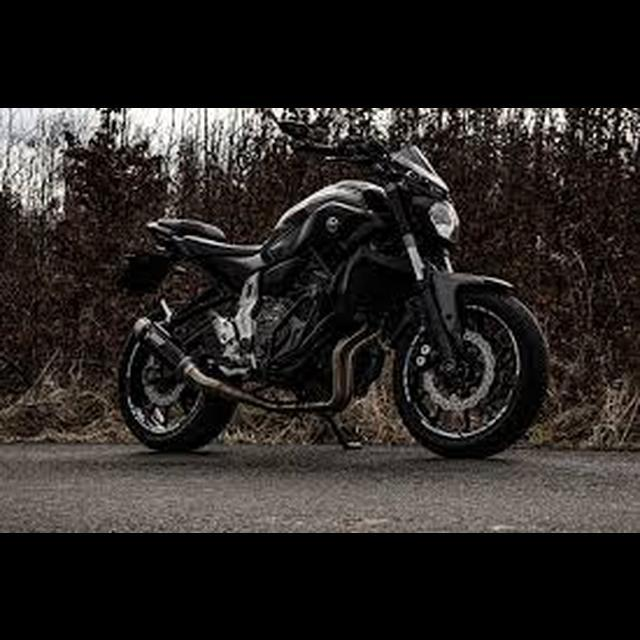motorcycle: (113, 137, 556, 464)
